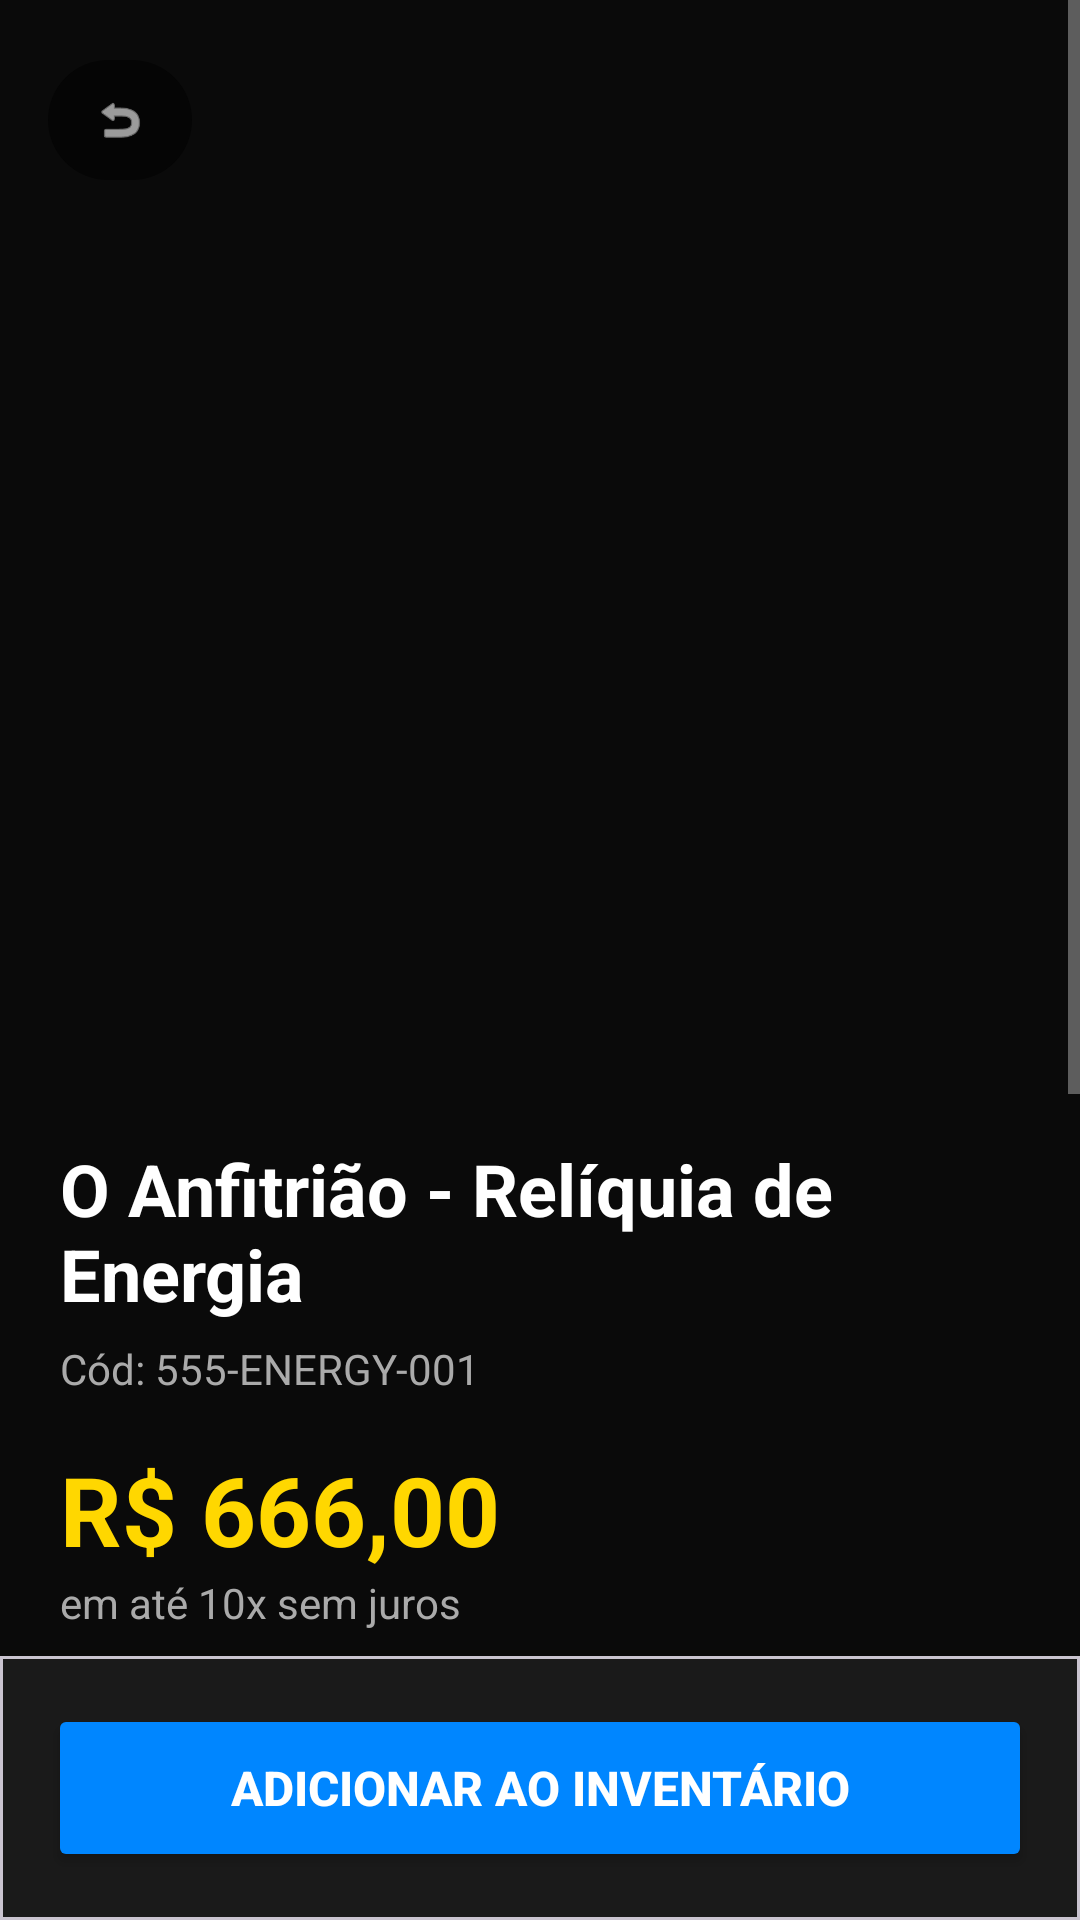

Screen size 1080×1920. Icon name, then its center in pixels as point (x, y):
revert: point (120, 120)
